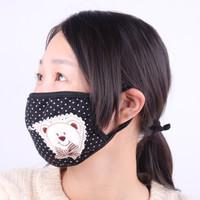OK: (25, 54, 139, 168)
